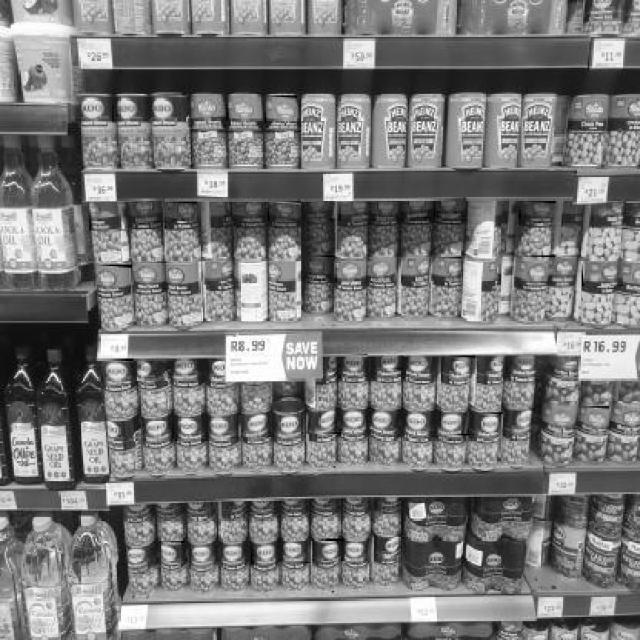Beans: (189, 94, 228, 128), (514, 256, 557, 286), (582, 260, 624, 288), (592, 200, 628, 231), (542, 400, 578, 431), (112, 95, 151, 123), (75, 97, 114, 125), (548, 258, 580, 292), (148, 94, 188, 121), (226, 92, 263, 121), (89, 205, 126, 232), (94, 265, 134, 289), (126, 199, 166, 223), (266, 96, 300, 124), (130, 262, 168, 287), (166, 260, 202, 286), (306, 410, 342, 436), (205, 414, 241, 440), (274, 412, 304, 443), (435, 413, 471, 438), (400, 257, 432, 285), (369, 535, 406, 559), (102, 358, 136, 384), (189, 543, 220, 571), (504, 408, 536, 435), (578, 406, 611, 432), (172, 415, 206, 440), (335, 260, 368, 285), (430, 257, 464, 281), (203, 262, 237, 286), (312, 538, 346, 562), (342, 536, 371, 564), (242, 412, 273, 438), (135, 357, 168, 381), (369, 408, 402, 432), (518, 200, 557, 220), (478, 352, 509, 377), (280, 540, 311, 565), (266, 262, 302, 283), (157, 540, 186, 566), (268, 200, 302, 222), (172, 359, 203, 383), (472, 413, 505, 435), (368, 257, 398, 281), (506, 354, 540, 375), (434, 198, 468, 219), (403, 411, 434, 434), (305, 255, 337, 277), (251, 539, 277, 566), (129, 548, 156, 574), (232, 203, 268, 222), (306, 200, 337, 222), (338, 202, 372, 222), (445, 356, 478, 376), (338, 410, 368, 432), (401, 200, 434, 220), (163, 202, 199, 220), (143, 420, 172, 442), (220, 540, 245, 565), (371, 200, 402, 220), (342, 354, 369, 375), (406, 357, 437, 375), (376, 355, 404, 371)
